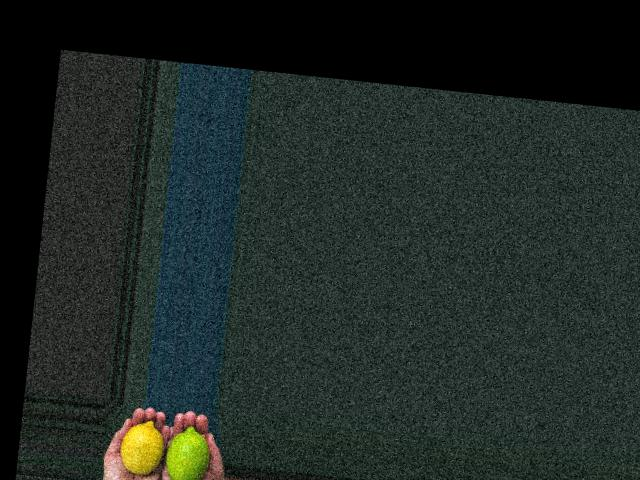lemon: (118, 418, 166, 479)
